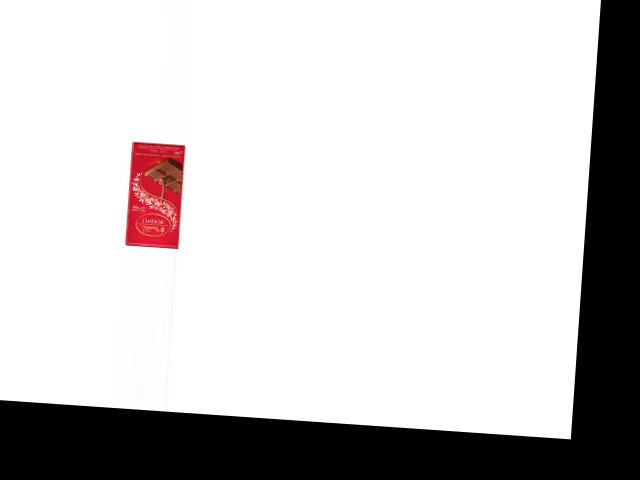chocolate: (123, 142, 190, 248)
